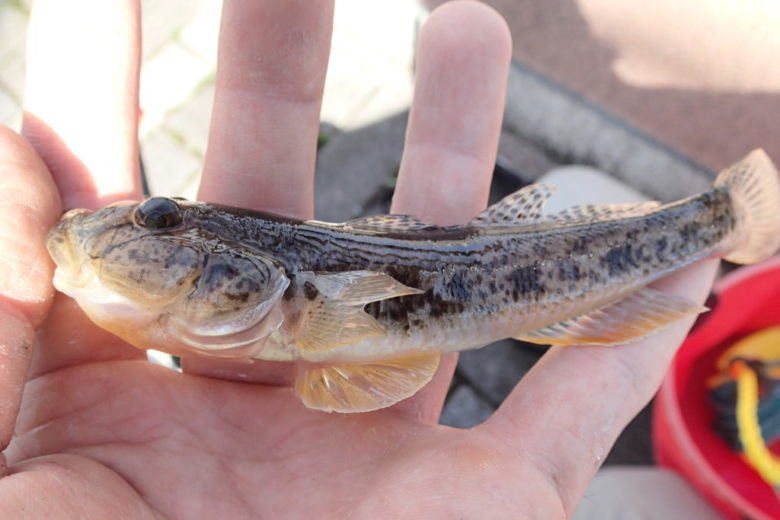kiss: (42, 170, 780, 405)
